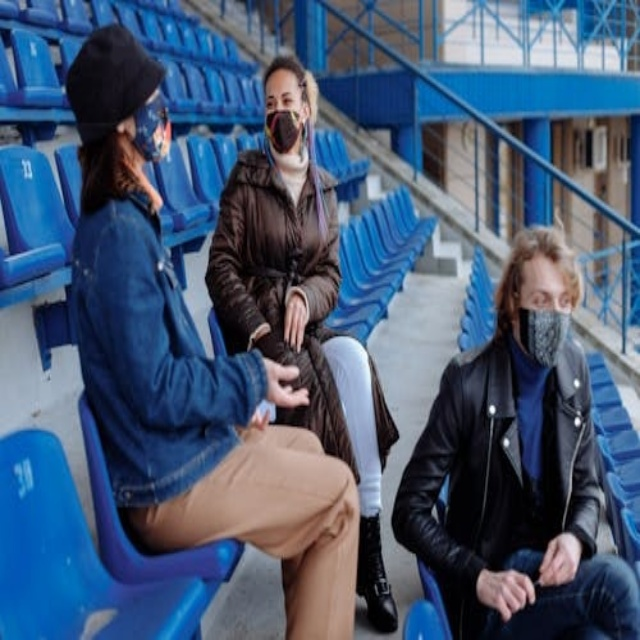Mascara: (518, 306, 571, 366), (131, 93, 171, 164), (266, 110, 305, 153)
Sin_gafas: (524, 277, 573, 309), (265, 88, 301, 111)
Sin_guantes: (261, 355, 312, 413), (538, 529, 584, 592), (483, 566, 535, 619), (278, 292, 312, 352)
